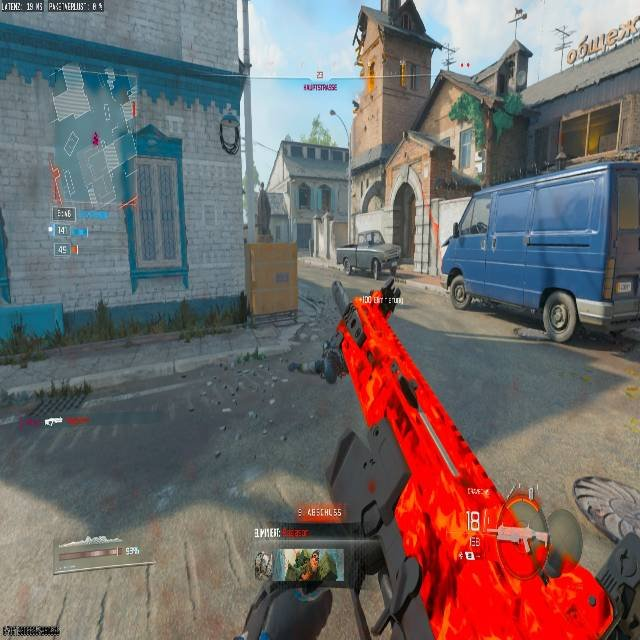player: (444, 266, 471, 308), (379, 278, 402, 315)
